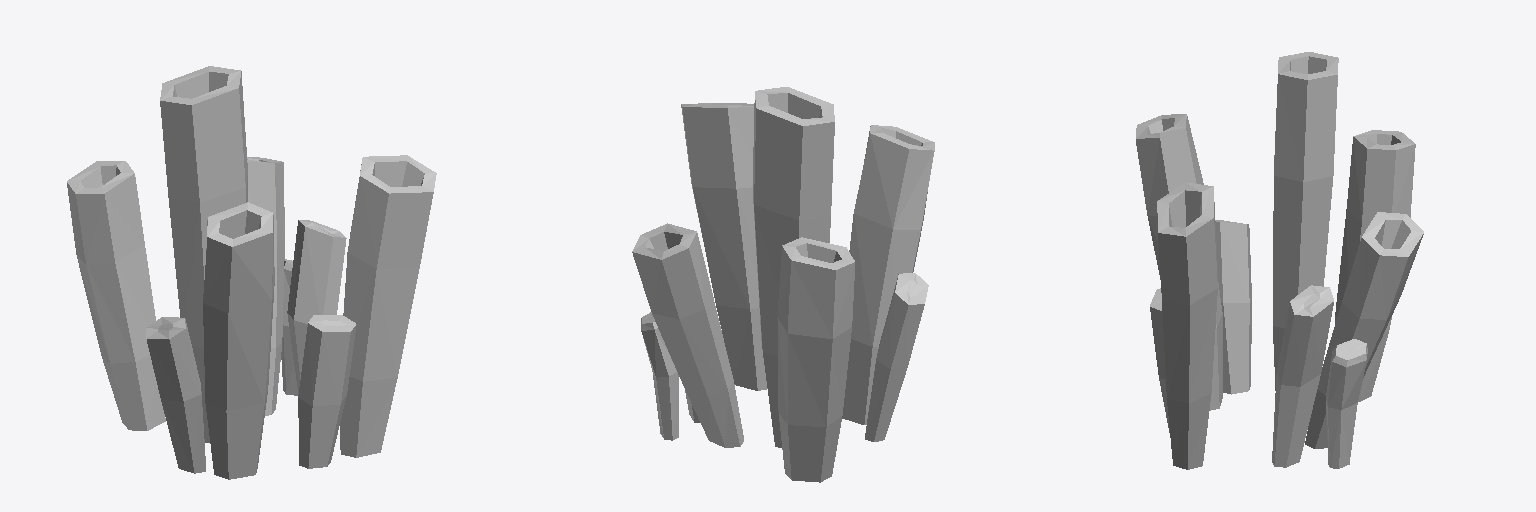
Rendered from Coral_D_01_LOD3.obj.
3 views of the same model, side by side, from view 1: azimuth 30°, elevation 25°; view 2: azimuth 150°, elevation 25°; view 3: azimuth 270°, elevation 25° (orthographic).
Parts seen in each view (by area): view 1: Coral_D_01_LOD3_Cylinder.441; view 2: Coral_D_01_LOD3_Cylinder.441; view 3: Coral_D_01_LOD3_Cylinder.441.
Part boxes in pixels (x1,y1,x2,y2): Coral_D_01_LOD3_Cylinder.441: (67,66,436,479); Coral_D_01_LOD3_Cylinder.441: (632,87,934,482); Coral_D_01_LOD3_Cylinder.441: (1136,52,1423,469).
Size of the model in its own units: 3.86 by 4.83 by 3.61.